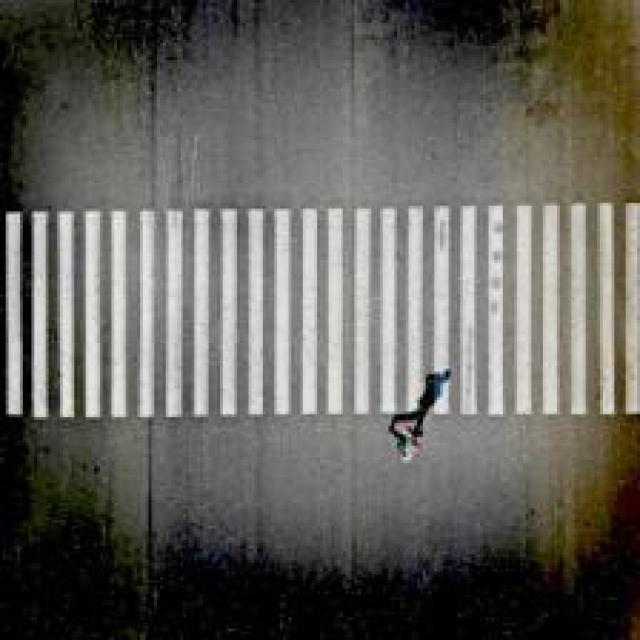crosswalk: (4, 193, 640, 424)
